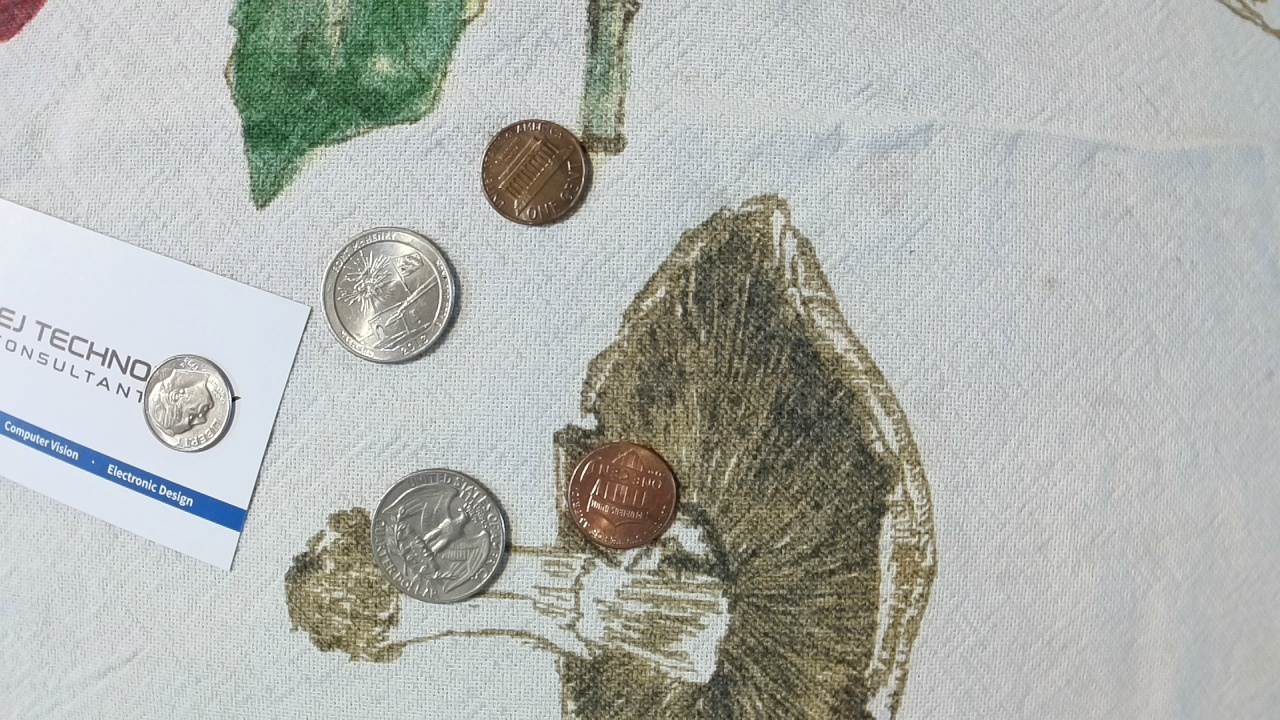dime: (140, 352, 236, 454)
penny: (476, 115, 594, 227), (564, 441, 682, 551)
quarter: (320, 218, 460, 370), (370, 464, 510, 604)
